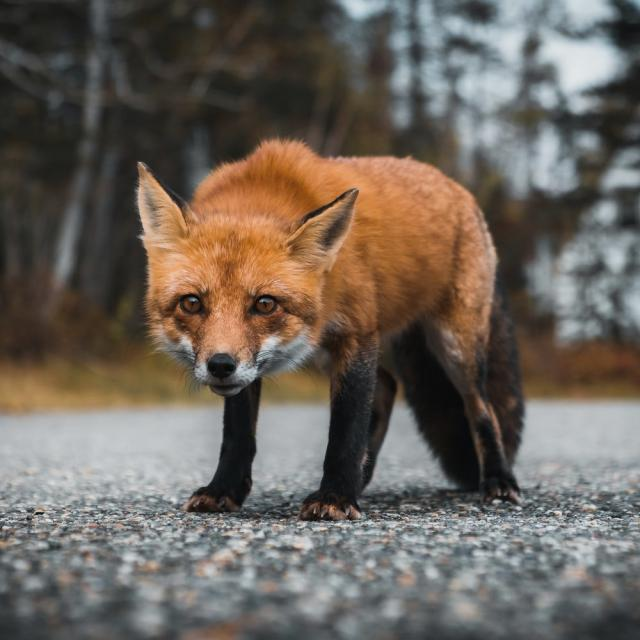fox: (138, 140, 524, 518)
